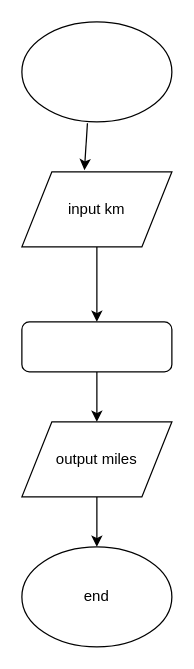
Some shapes in this 194 by 669 pixel diagram are drawn without their labels. The centre of each missing label's shape, as x and y in pixels:
calculate miles: pixel 96 346
start: pixel 96 71
